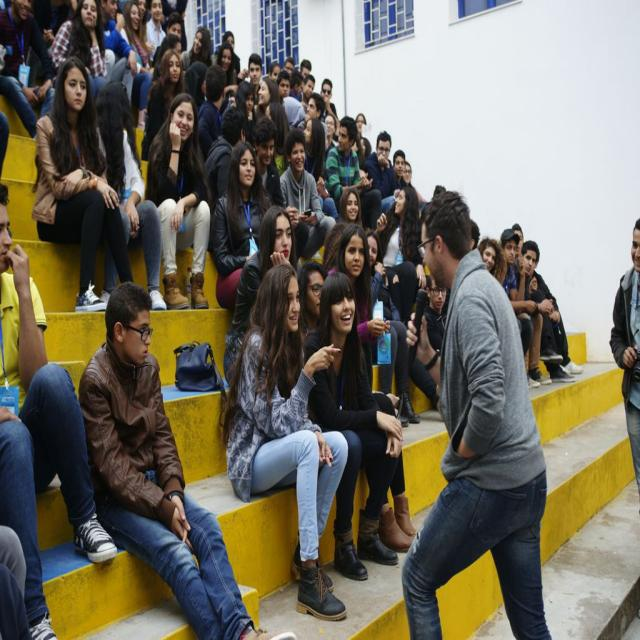body: (70, 273, 308, 639), (395, 181, 574, 639), (0, 169, 120, 639), (218, 254, 358, 631), (296, 260, 419, 556), (302, 268, 405, 584), (30, 53, 136, 316), (323, 222, 421, 428), (94, 78, 169, 311), (142, 88, 213, 312), (222, 205, 306, 386), (208, 139, 276, 313), (215, 29, 348, 116), (365, 228, 421, 424), (119, 0, 209, 114), (607, 216, 640, 492), (519, 238, 578, 382), (374, 183, 428, 330), (0, 0, 56, 141), (278, 126, 331, 273), (325, 115, 383, 232), (48, 0, 110, 99), (497, 227, 540, 360), (252, 116, 300, 233), (203, 103, 248, 221), (416, 272, 450, 416), (0, 519, 40, 638), (144, 47, 185, 159), (98, 0, 138, 109), (300, 116, 340, 222), (547, 288, 586, 379), (195, 63, 228, 163), (364, 128, 399, 216), (33, 0, 78, 41), (477, 236, 508, 286), (180, 27, 212, 72), (338, 186, 363, 230), (0, 106, 15, 178), (355, 107, 373, 161), (390, 147, 414, 186), (322, 116, 341, 156), (466, 214, 482, 253), (510, 219, 524, 255), (432, 183, 447, 201)
